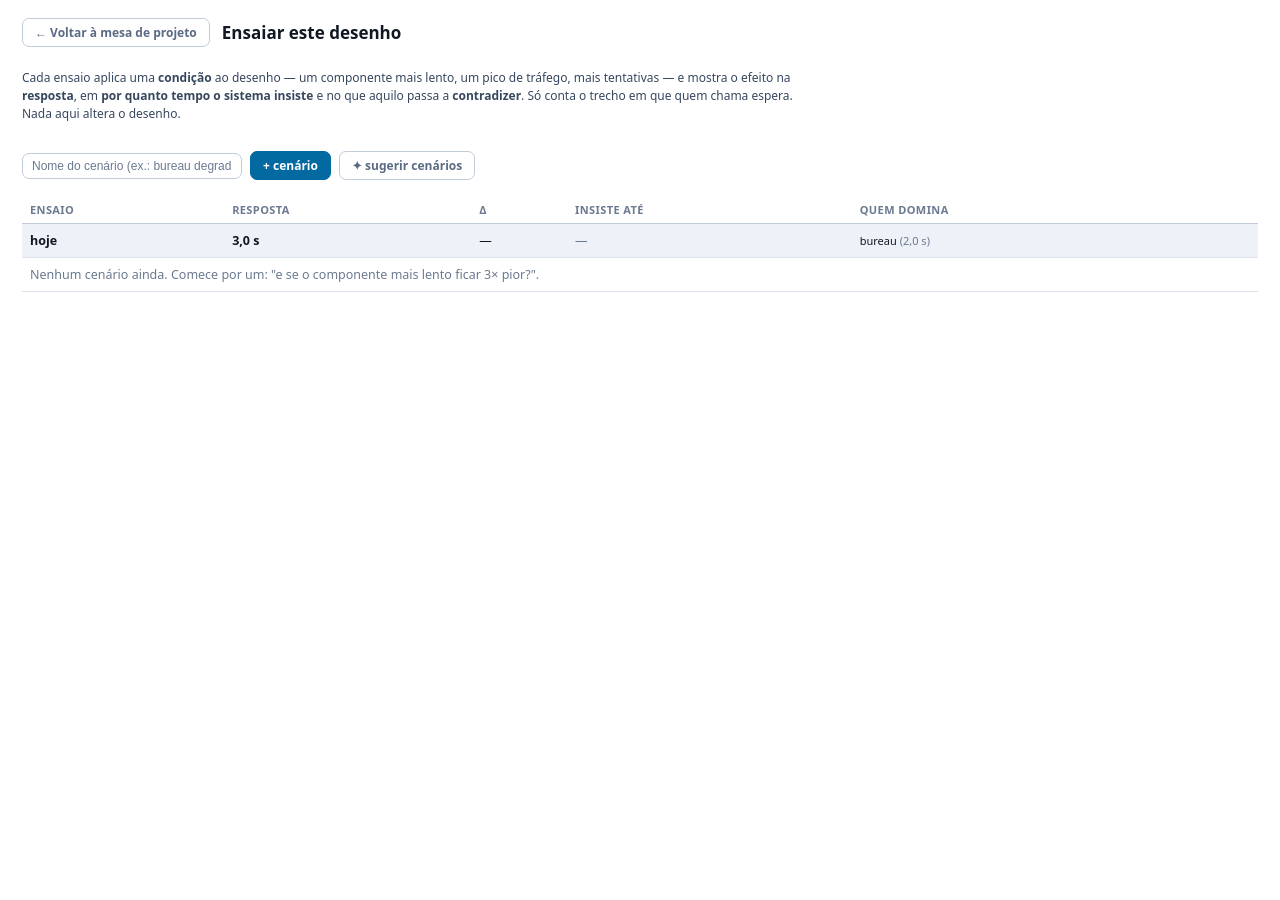
EnsaiosScreen — a proposta do modelo › falha ao sugerir vira MOTIVO na tela, não botão inerte
Step 1. Click the button with test id "sugerir-cenarios" → (407, 166), box [339,151,475,180]
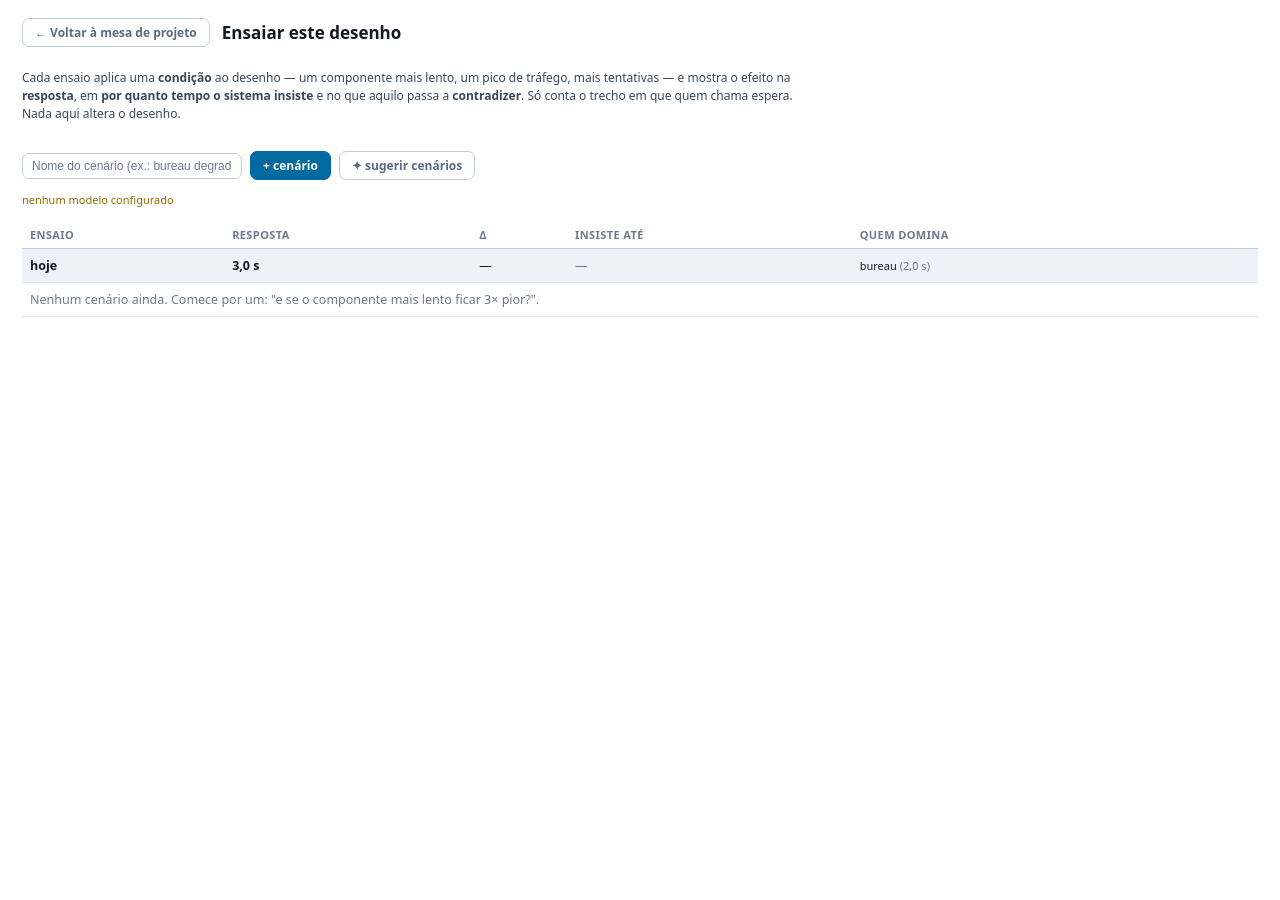
Check: the text with test id "erro-sugestao" reads "nenhum modelo configurado", box [22,192,174,207]
